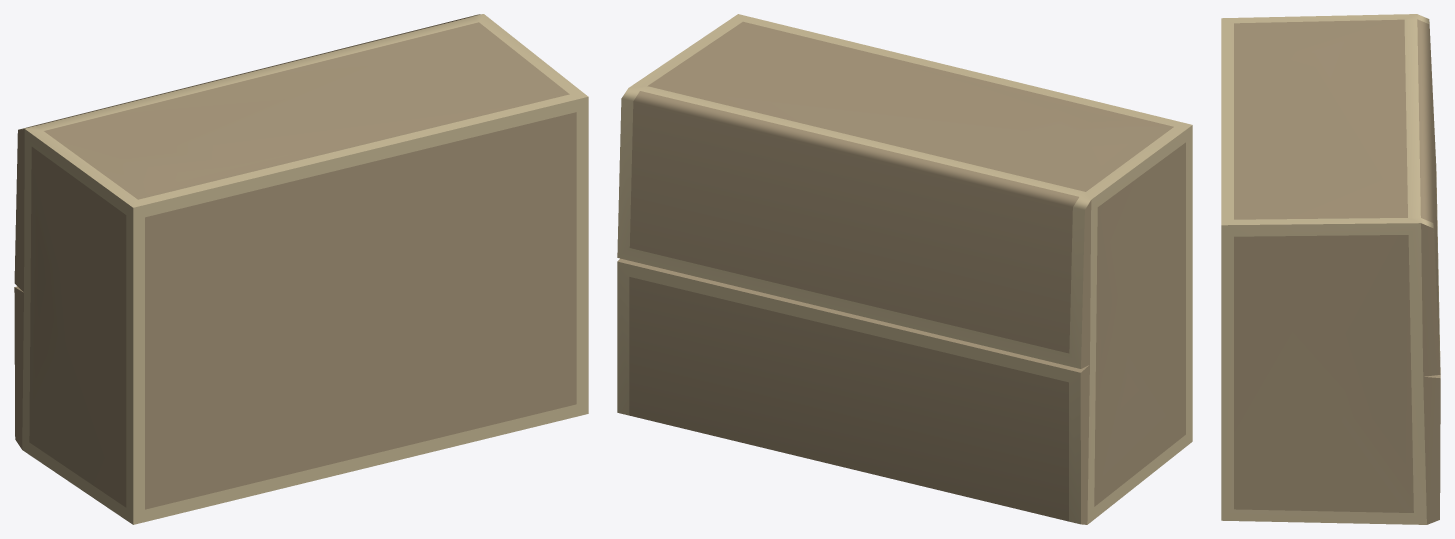
File: BoxE.fbx
The picture shows the model from 3 angles, left to right: view 1: azimuth 30°, elevation 25°; view 2: azimuth 150°, elevation 25°; view 3: azimuth 270°, elevation 25°; orthographic projection. The views are drawn at different scales.
Parts seen in each view (by area): view 1: BoxE; view 2: BoxE; view 3: BoxE.
Boxes of the visible parts, x1=… form: BoxE: x1=14, y1=14, x2=588, y2=524; BoxE: x1=617, y1=14, x2=1192, y2=524; BoxE: x1=1221, y1=14, x2=1440, y2=524.
Bounding box in the file's own units: 117 × 78.22 × 51.47.
